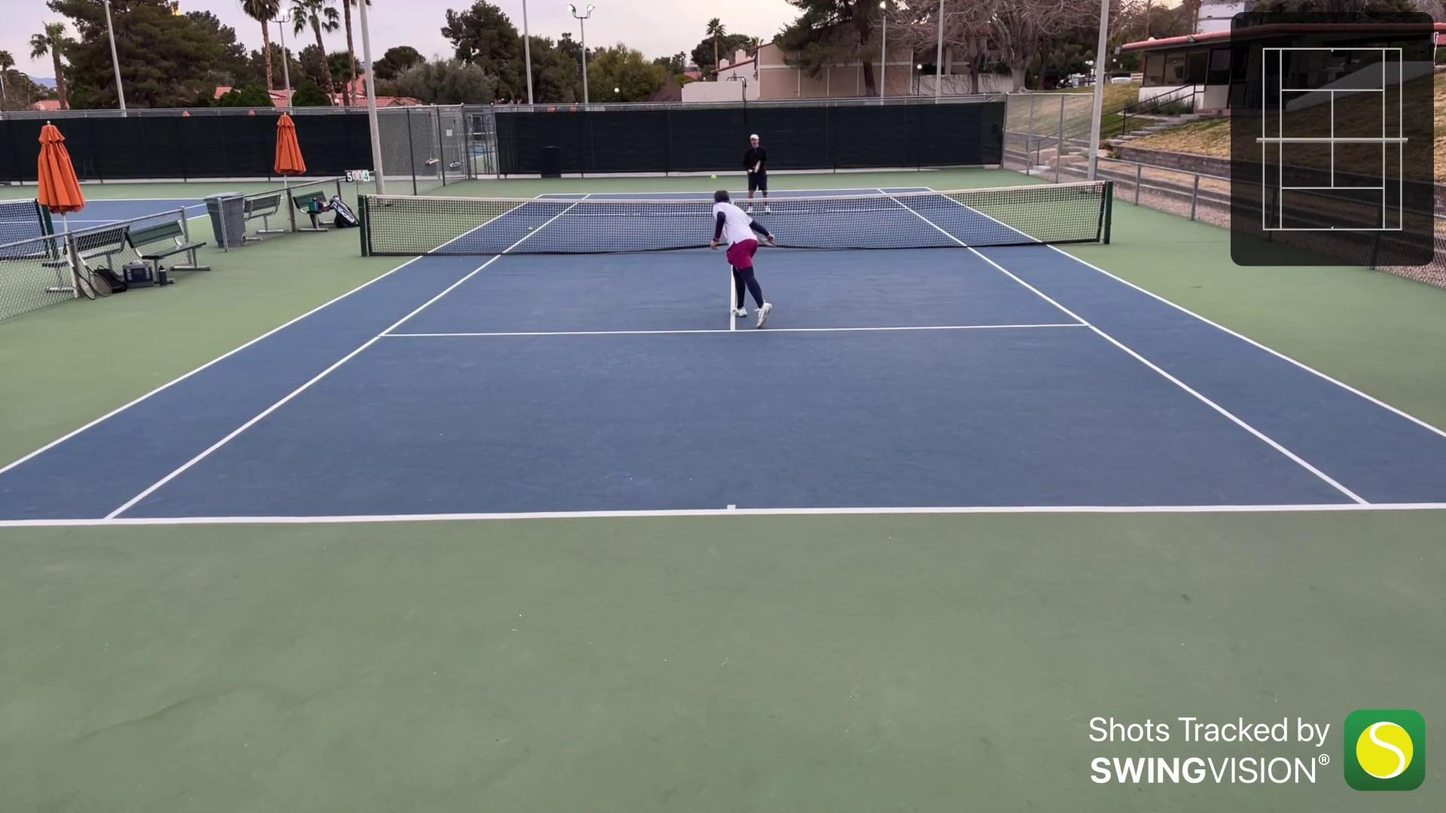ball: (709, 173, 718, 182)
